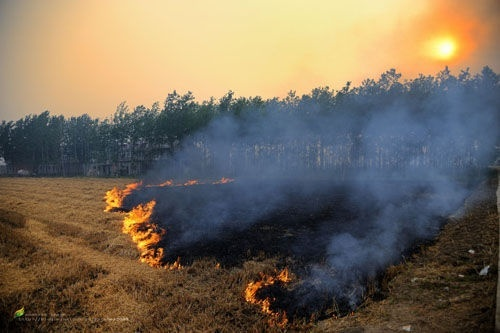fire: (101, 183, 185, 271), (242, 264, 295, 326), (148, 174, 236, 188)
